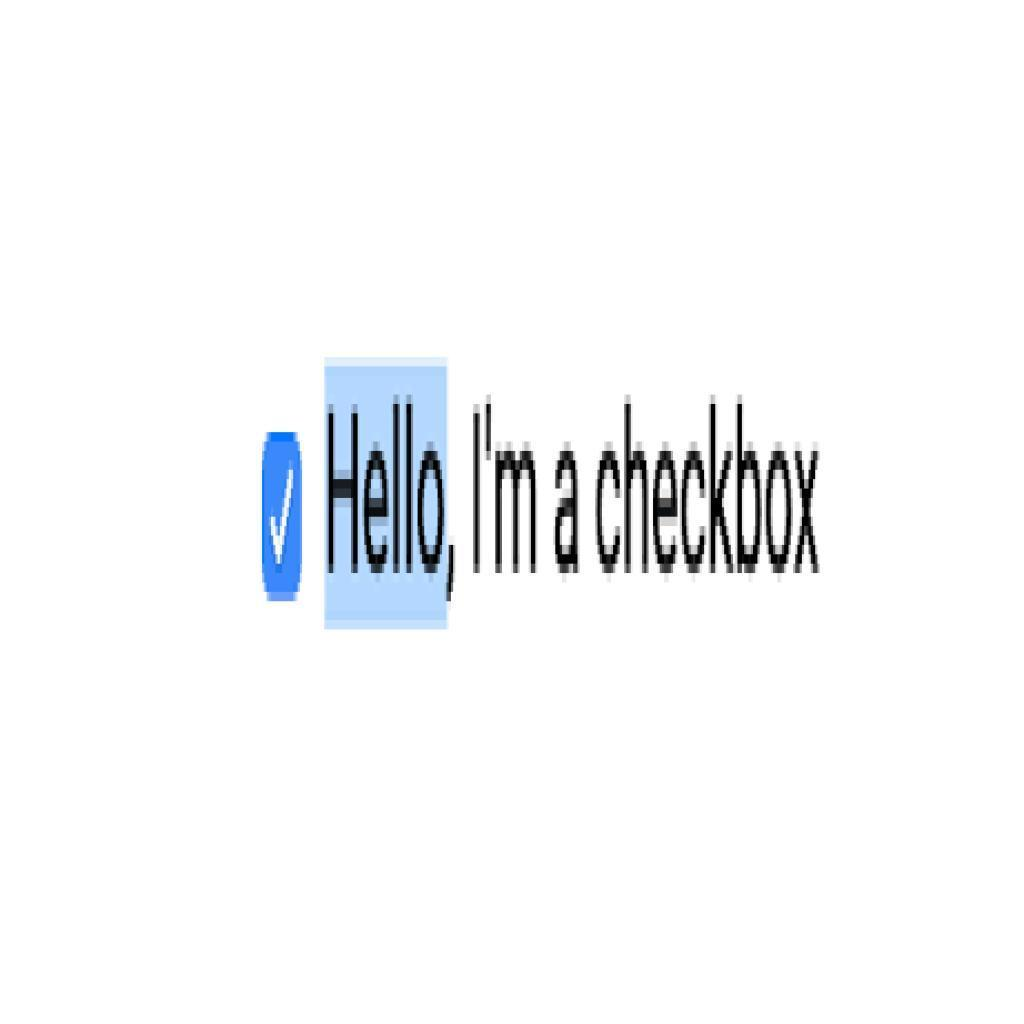checkbox: (263, 433, 305, 602)
label: (322, 398, 827, 603)
